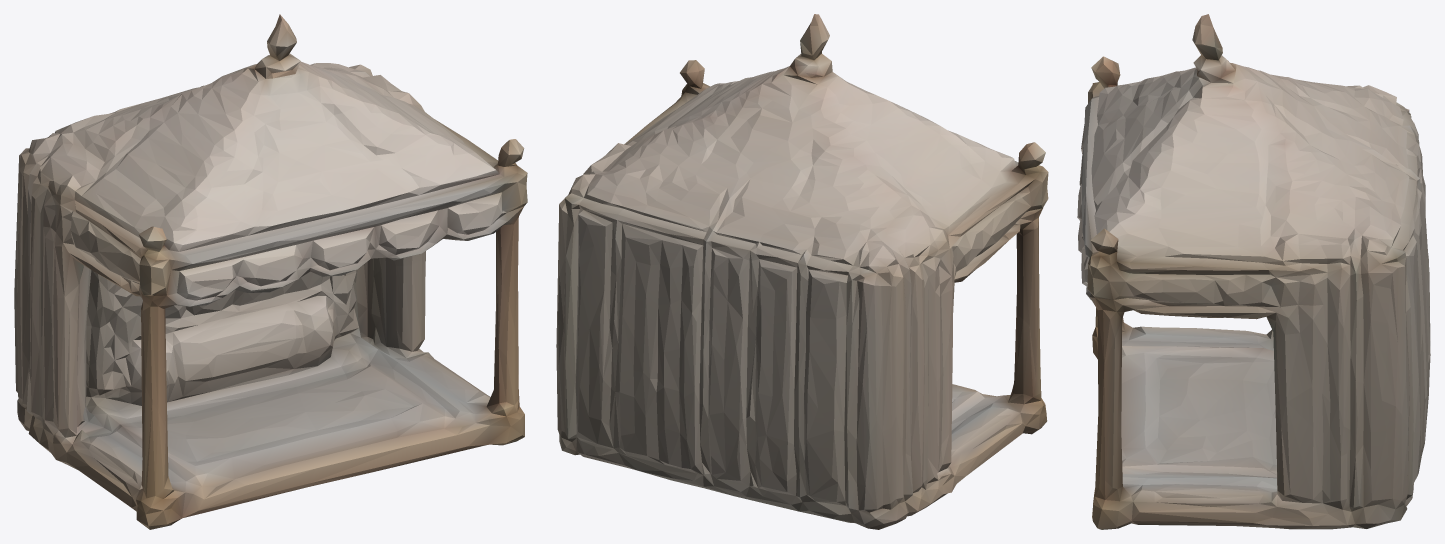
The model's file is Tent.glb.
3 renders of one model, left to right at view 1: azimuth 30°, elevation 25°; view 2: azimuth 150°, elevation 25°; view 3: azimuth 270°, elevation 25°, orthographic. The views are drawn at different scales.
Parts seen in each view (by area): view 1: geometry_0; view 2: geometry_0; view 3: geometry_0.
Part boxes in pixels (bbox=[...]): geometry_0: bbox=[14, 14, 527, 529]; geometry_0: bbox=[556, 14, 1048, 529]; geometry_0: bbox=[1077, 14, 1430, 529].
Size of the model in its own units: 0.849 by 0.9395 by 0.6877.
